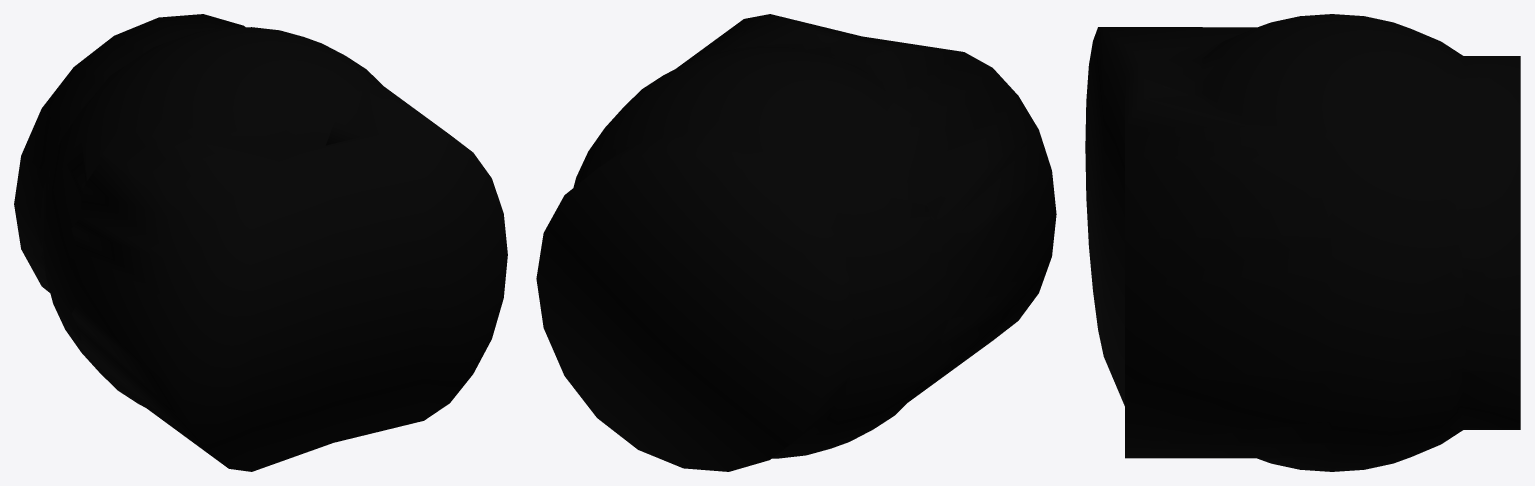
File: HeadYaw.obj
The picture shows the model from 3 angles, left to right: view 1: azimuth 30°, elevation 25°; view 2: azimuth 150°, elevation 25°; view 3: azimuth 270°, elevation 25°; orthographic projection. The views are drawn at different scales.
Size of the model in its own units: 0.6554 by 0.6554 by 0.6225.
